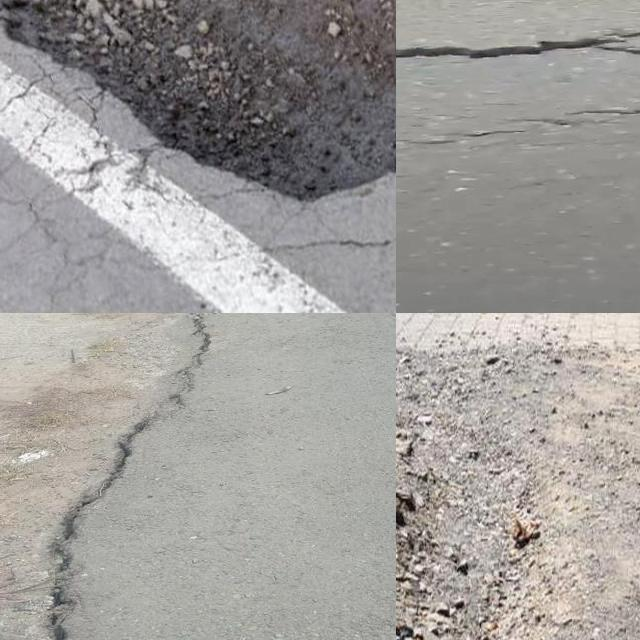Melintang: (396, 21, 640, 78)
Memanjang: (23, 313, 232, 640)
Pinggir: (3, 0, 396, 209), (396, 313, 484, 640)
